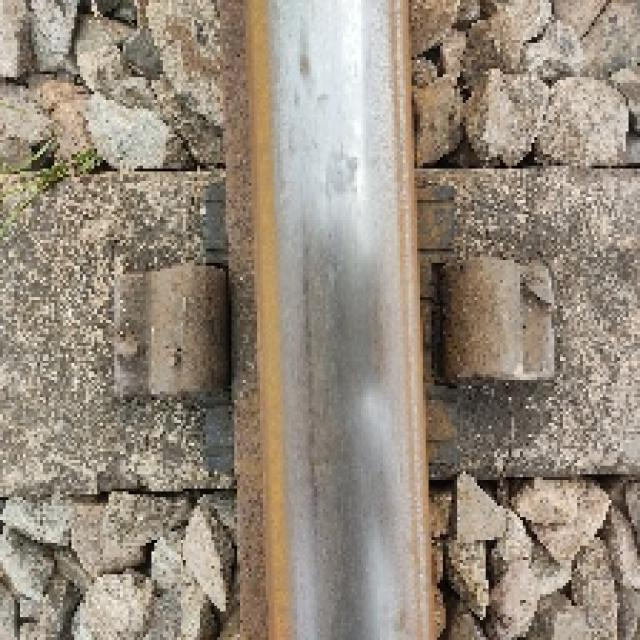Missing Fastener: (417, 234, 571, 429), (84, 243, 249, 421)
